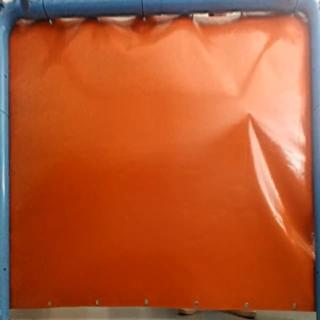Hit-hRxx: (244, 108, 258, 120)
